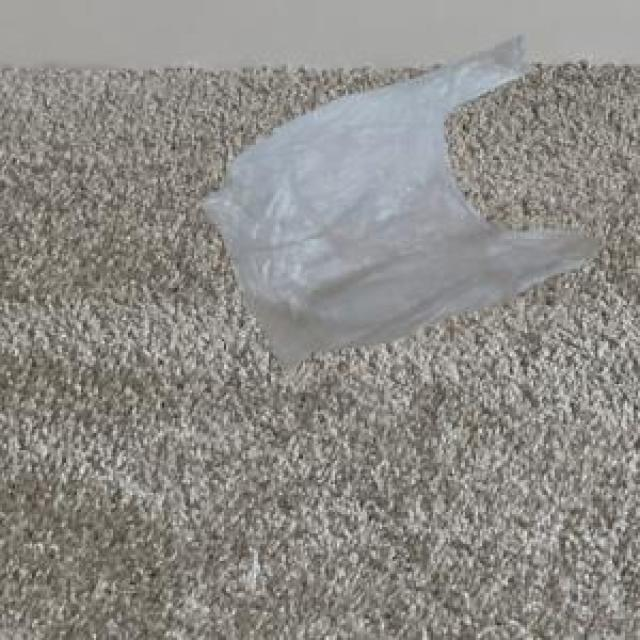waste: (208, 39, 595, 362)
